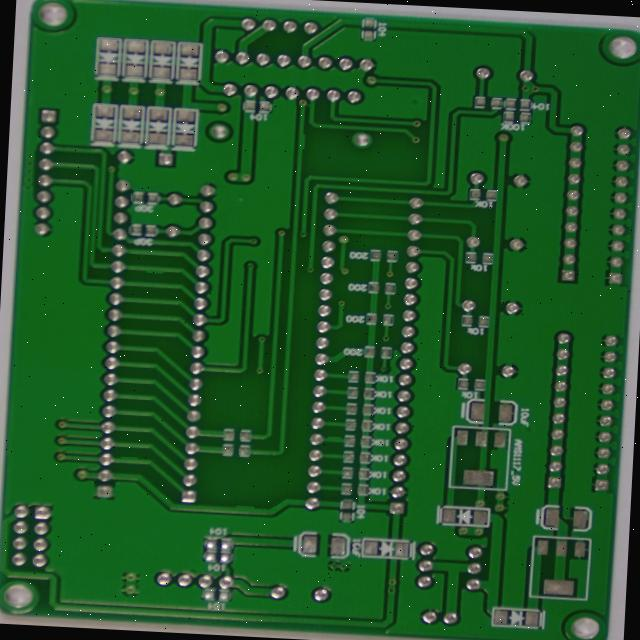spur: (245, 495, 277, 511), (314, 110, 330, 135), (152, 251, 177, 263), (345, 425, 366, 439), (127, 447, 152, 458)
